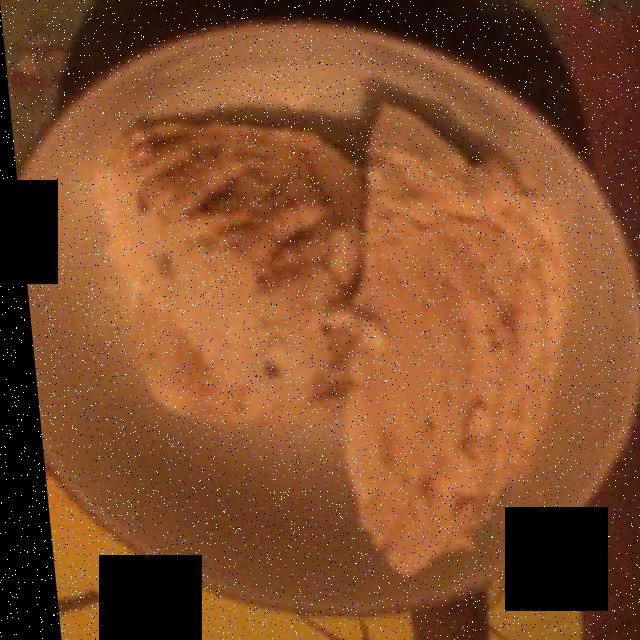dairy-ice-cream: (104, 117, 527, 559)
